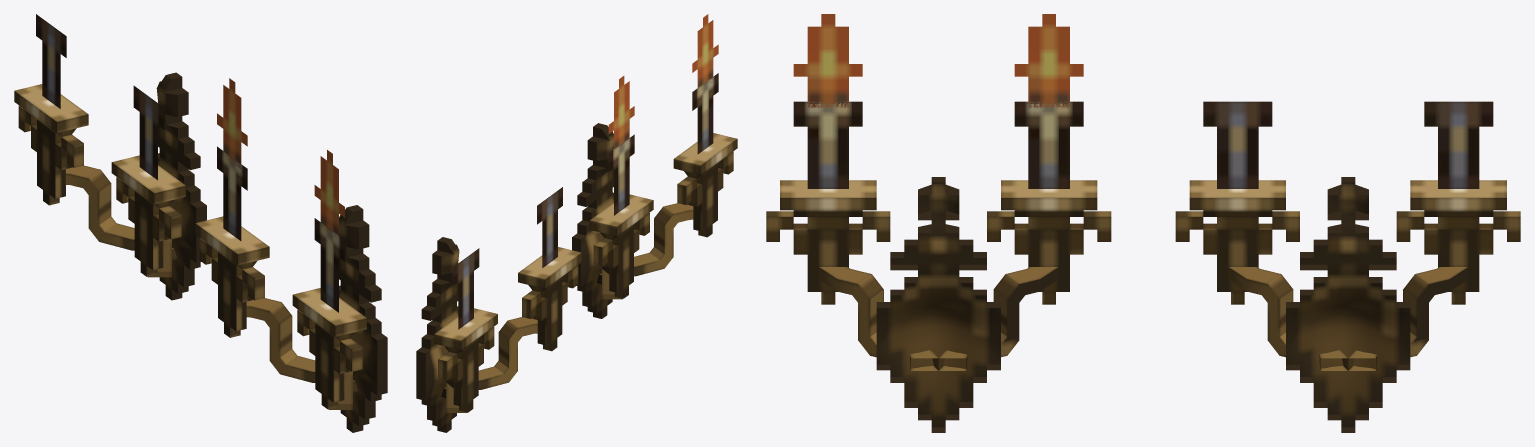
The model's file is ObjMD_Lamp_Residence_A_F2_1.FBX.
The picture shows the model from 3 angles, left to right: view 1: azimuth 30°, elevation 25°; view 2: azimuth 150°, elevation 25°; view 3: azimuth 270°, elevation 25°; orthographic projection. The views are drawn at different scales.
Visible parts, largest first — view 1: ObjMD_Lamp_Residence_A_F2_1, ObjMD_Lamp_Residence_A_F2_off; view 2: ObjMD_Lamp_Residence_A_F2_1, ObjMD_Lamp_Residence_A_F2_off; view 3: ObjMD_Lamp_Residence_A_F2_1, ObjMD_Lamp_Residence_A_F2_off.
Part boxes in pixels (<box>): ObjMD_Lamp_Residence_A_F2_1: <box>195,78,387,432</box>; ObjMD_Lamp_Residence_A_F2_off: <box>14,14,206,300</box>; ObjMD_Lamp_Residence_A_F2_1: <box>572,14,737,318</box>; ObjMD_Lamp_Residence_A_F2_off: <box>416,187,581,432</box>; ObjMD_Lamp_Residence_A_F2_1: <box>766,14,1111,432</box>; ObjMD_Lamp_Residence_A_F2_off: <box>1175,101,1520,432</box>.
Bounding box in the file's own units: 56.25 × 188 × 342.
